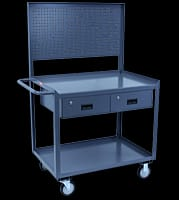Carts: (17, 2, 161, 197)
